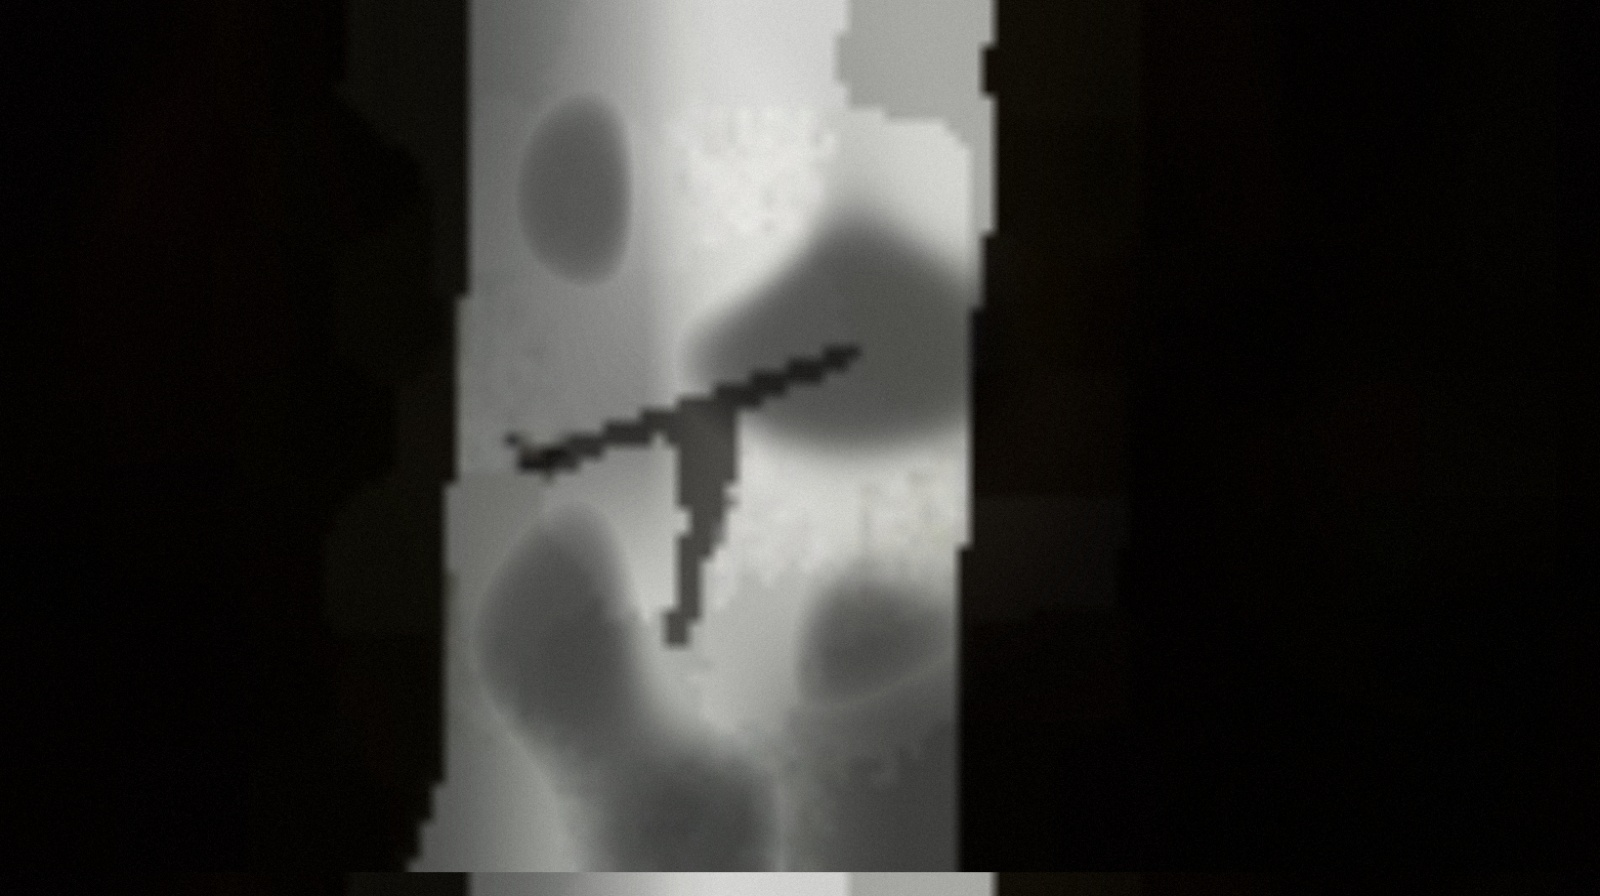S001: (618, 384, 784, 687)
S002: (495, 256, 876, 571)
